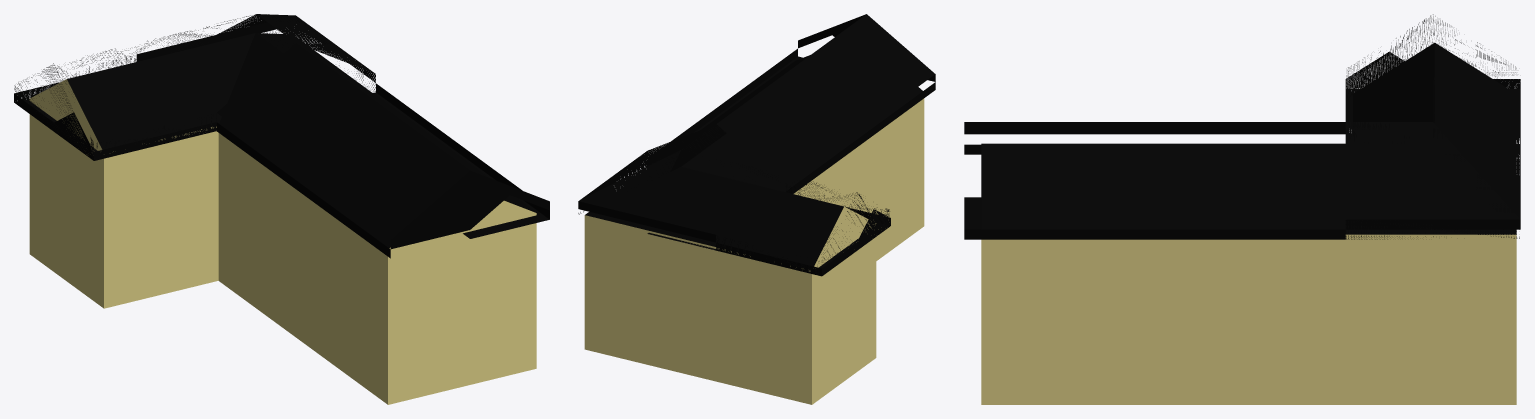
File: house3.fbx
3 views of the same model, side by side, from view 1: azimuth 30°, elevation 25°; view 2: azimuth 150°, elevation 25°; view 3: azimuth 270°, elevation 25° (orthographic). The views are drawn at different scales.
Parts seen in each view (by area): view 1: Cube.001, Cube.004; view 2: Cube.001, Cube.004; view 3: Cube.001, Cube.004.
Boxes of the visible parts, x1=… form: Cube.001: x1=29, y1=33, x2=536, y2=404; Cube.004: x1=14, y1=14, x2=549, y2=258; Cube.001: x1=584, y1=55, x2=924, y2=404; Cube.004: x1=578, y1=14, x2=935, y2=276; Cube.001: x1=981, y1=43, x2=1516, y2=404; Cube.004: x1=964, y1=14, x2=1520, y2=239.
Bounding box in the file's own units: 158 × 119 × 246.
